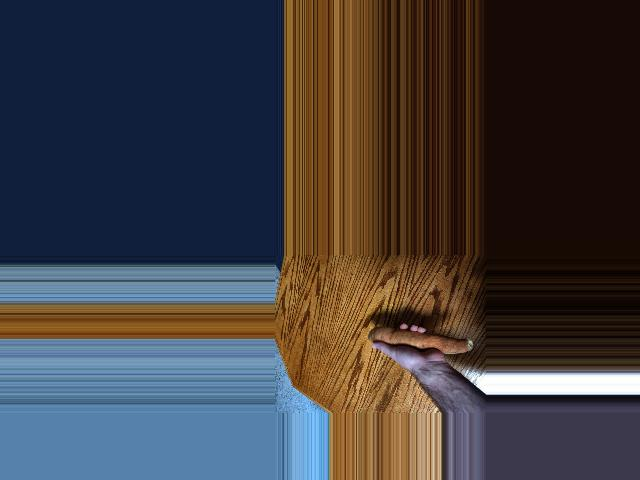sweet_potato: (370, 322, 472, 357)
